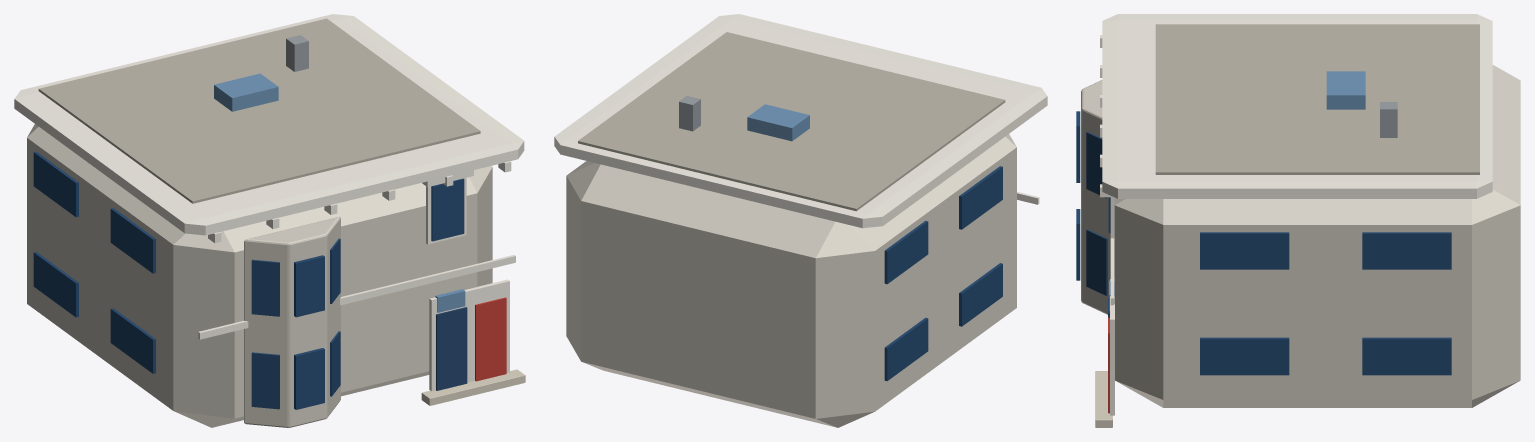
Rendered from edw_w11_f2.glb.
3 views of the same model, side by side, from view 1: azimuth 30°, elevation 25°; view 2: azimuth 150°, elevation 25°; view 3: azimuth 270°, elevation 25° (orthographic). The views are drawn at different scales.
Visible parts, largest first — view 1: walls, roofslab, corn, bay, door.001, door, belt, wgl, skylt, bw.001, bw, sb.004 (+13 smaller); view 2: walls, roofslab, corn, skylt, sb.002, sb.006, sb, sb.004, pipe; view 3: walls, roofslab, corn, bay, sb.003, sb.001, sb.005, sb.007, skylt, bwa.001, bwa.003, lstep (+2 smaller).
Part boxes in pixels (left/top/right/bottom): walls: left=27, top=124, right=492, bottom=427; roofslab: left=38, top=18, right=480, bottom=203; corn: left=14, top=14, right=524, bottom=235; bay: left=244, top=216, right=340, bottom=427; door.001: left=475, top=297, right=506, bottom=381; door: left=436, top=307, right=467, bottom=390; belt: left=198, top=255, right=515, bottom=339; wgl: left=431, top=178, right=464, bottom=241; skylt: left=214, top=73, right=278, bottom=111; bw.001: left=294, top=255, right=324, bottom=317; bw: left=294, top=348, right=324, bottom=409; sb.004: left=110, top=208, right=155, bottom=273; walls: left=566, top=134, right=1016, bottom=427; roofslab: left=578, top=32, right=1005, bottom=211; corn: left=554, top=14, right=1047, bottom=228; skylt: left=747, top=104, right=809, bottom=141; sb.002: left=884, top=317, right=928, bottom=381; sb.006: left=884, top=220, right=928, bottom=284; sb: left=959, top=263, right=1002, bottom=326; sb.004: left=959, top=166, right=1002, bottom=229; pipe: left=679, top=96, right=700, bottom=131; walls: left=1114, top=65, right=1520, bottom=407; roofslab: left=1155, top=24, right=1479, bottom=174; corn: left=1102, top=14, right=1492, bottom=198; bay: left=1081, top=80, right=1114, bottom=314; sb.003: left=1362, top=337, right=1451, bottom=375; sb.001: left=1200, top=337, right=1289, bottom=375; sb.005: left=1200, top=232, right=1289, bottom=269; sb.007: left=1362, top=232, right=1451, bottom=269; skylt: left=1326, top=71, right=1365, bottom=109; bwa.001: left=1086, top=229, right=1107, bottom=295; bwa.003: left=1086, top=132, right=1107, bottom=198; lstep: left=1095, top=371, right=1112, bottom=427.
Bounding box in the file's own units: 11.7 × 8.65 × 12.59.
